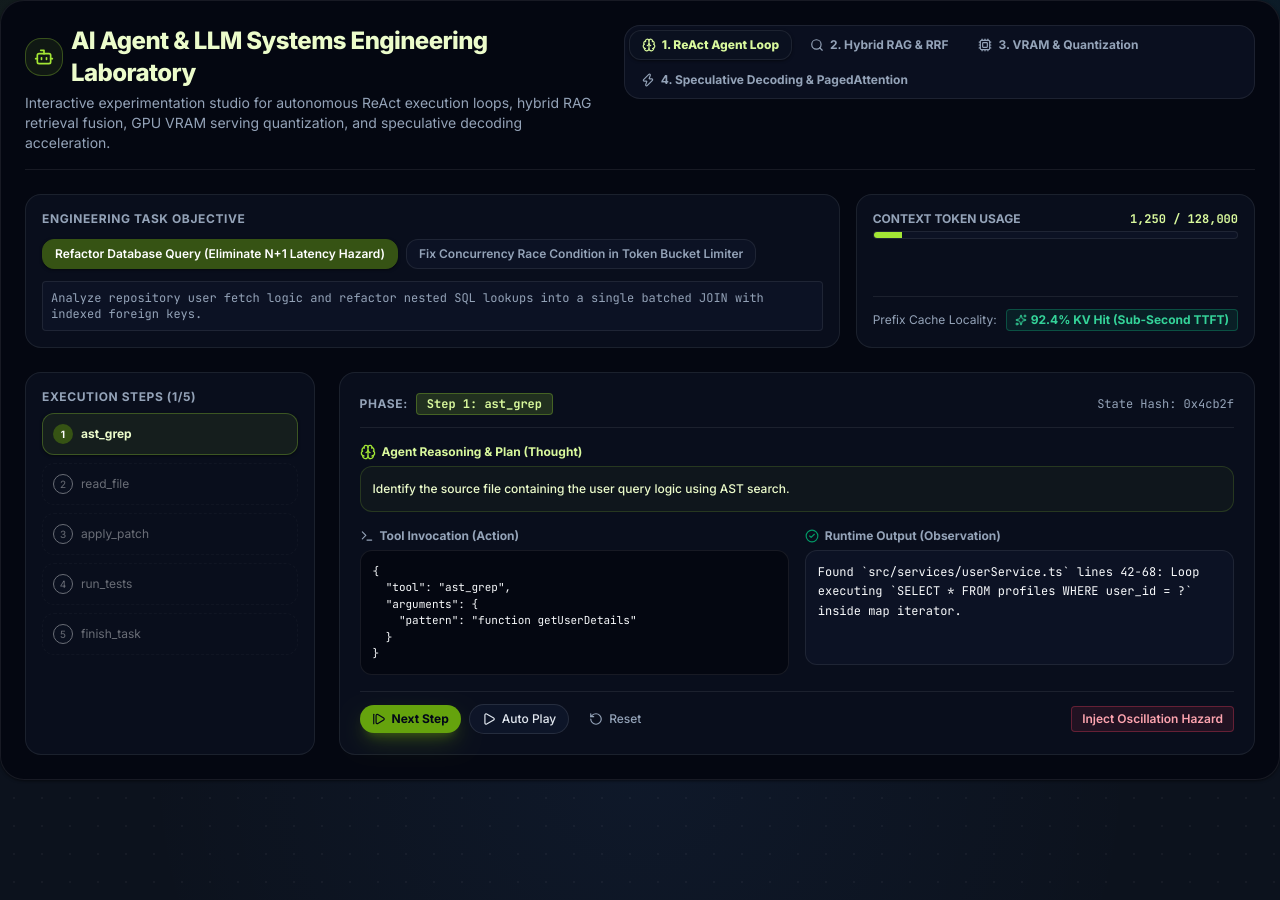
Scenario: AiAgentLabSandbox Component › switches to VRAM Serving & Quantization tab and calculates VRAM footprint
Click the button "3. VRAM & Quantization": (1058, 45) [966,31,1150,59]
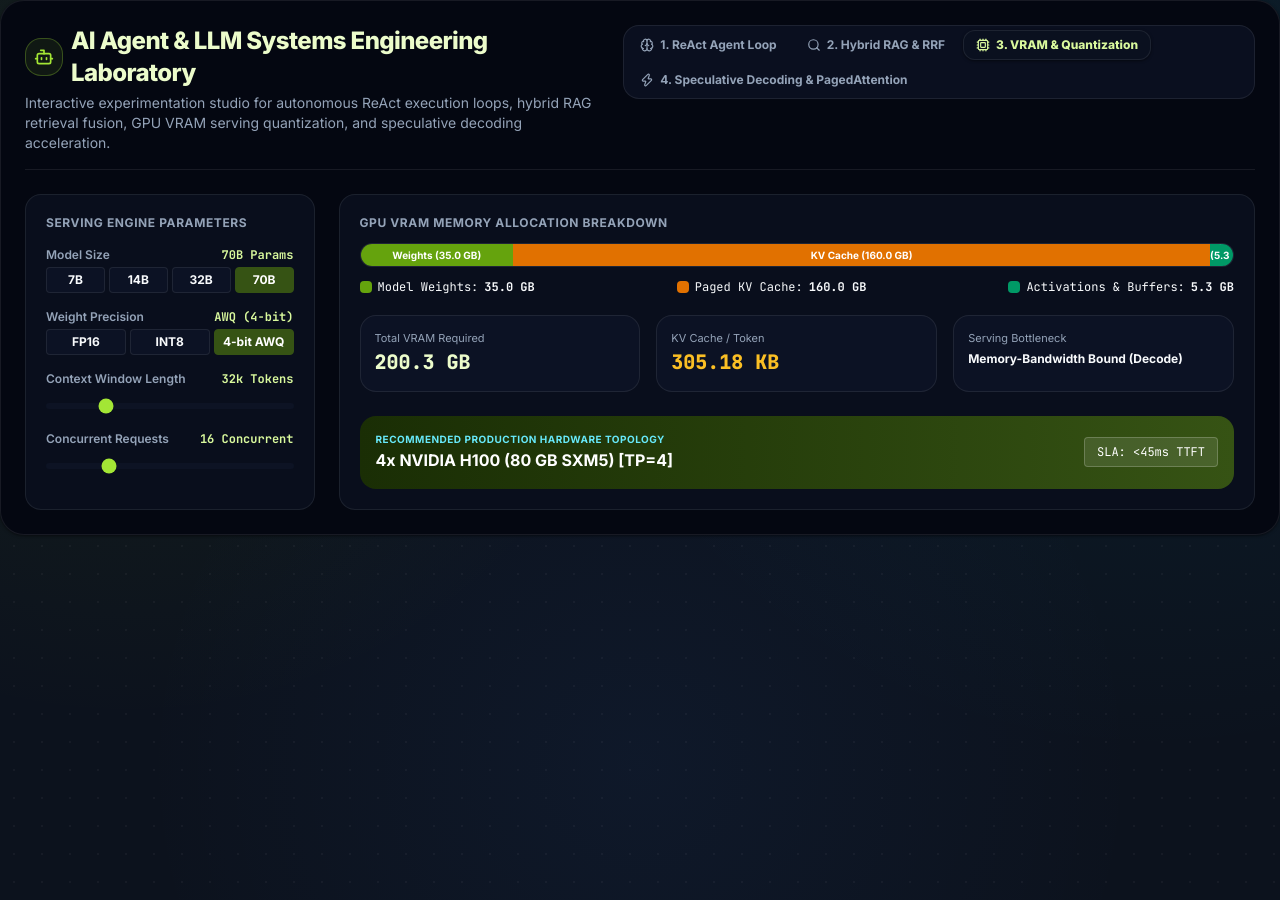
Expected: the text "Serving Engine Parameters" is shown, [46,215,247,230]
Expected: the text "GPU VRAM Memory Allocation Breakdown" is shown, [360,215,668,230]
Expected: the text "Total VRAM Required" is shown, [374,331,485,345]
// Test changing model size to 7B
Click the button "7B": (75, 280) [46,267,105,293]
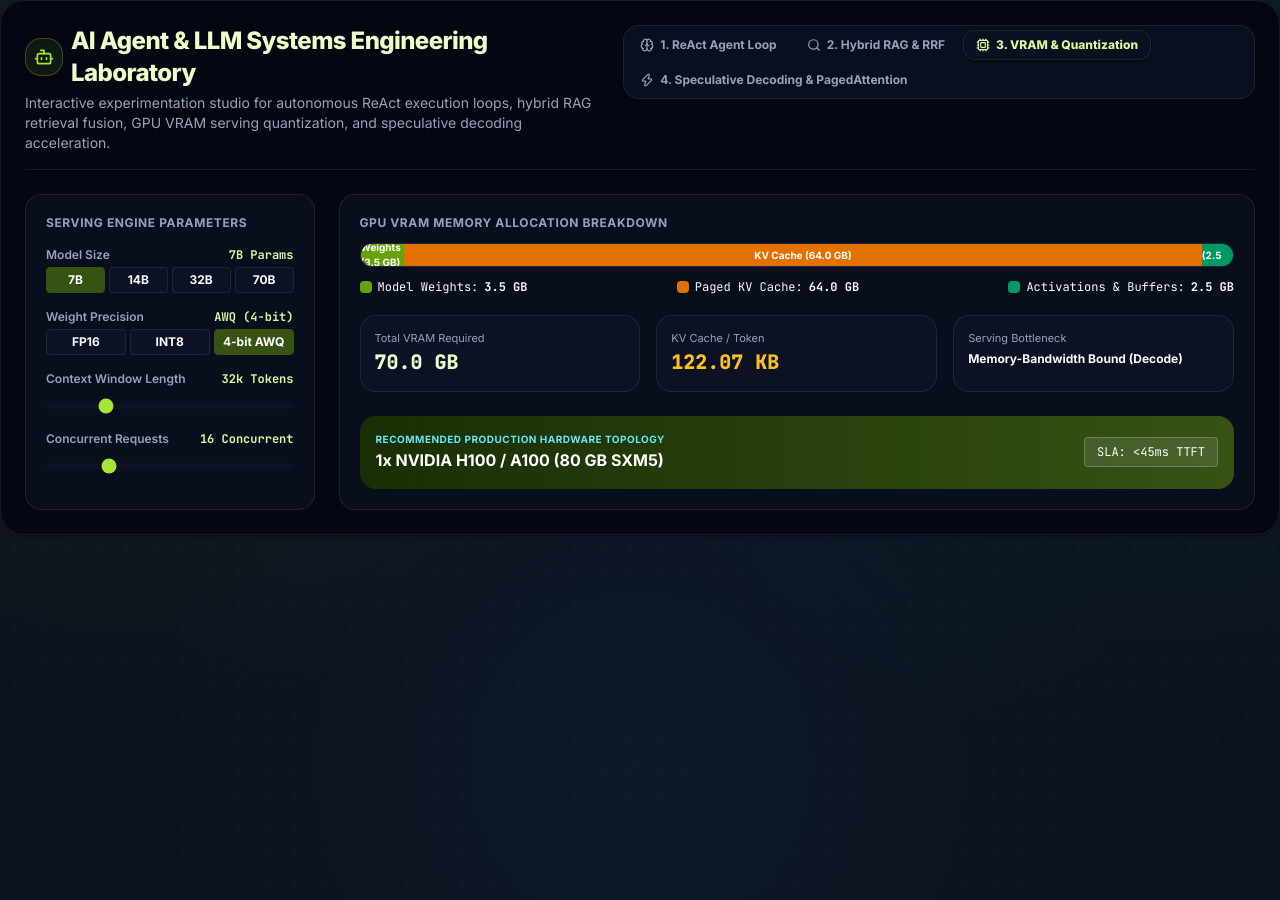
Expected: the text "7B Params" is shown, [229,247,294,263]
